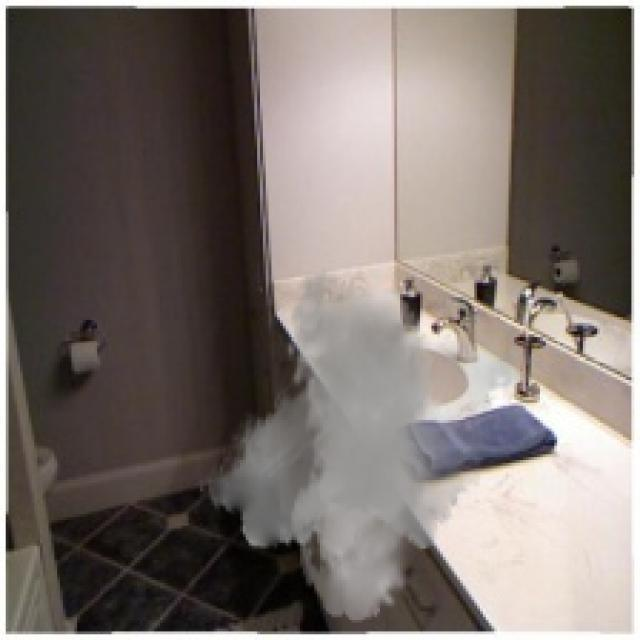Smoke: (197, 268, 543, 623)
